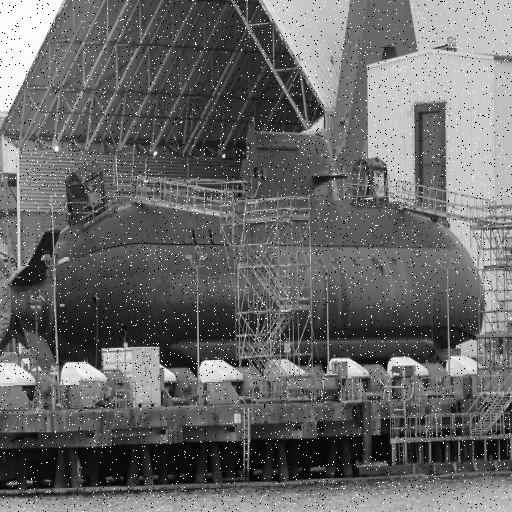submarine: (1, 119, 488, 381)
